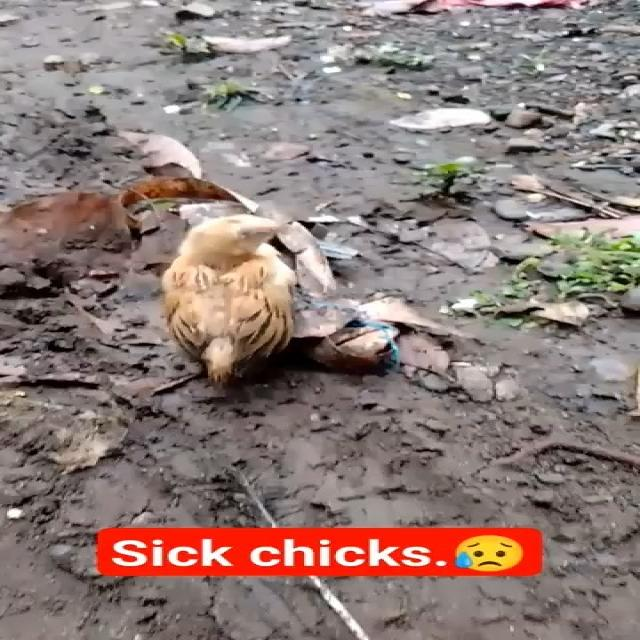abnormal chicken: (171, 196, 341, 396)
